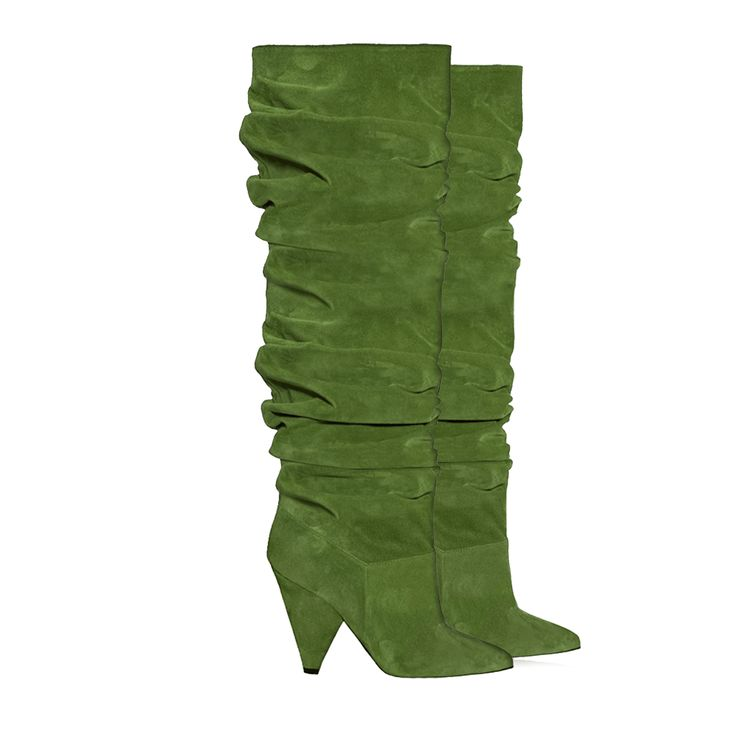gamuza: (242, 44, 581, 679)
